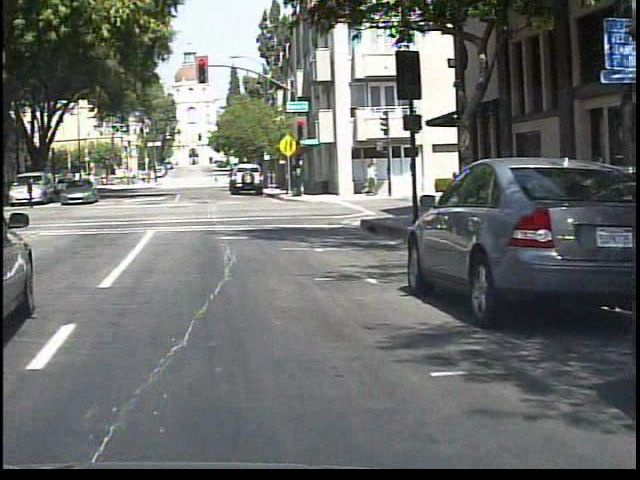person: (23, 173, 37, 212), (209, 172, 223, 189), (3, 175, 4, 213)
